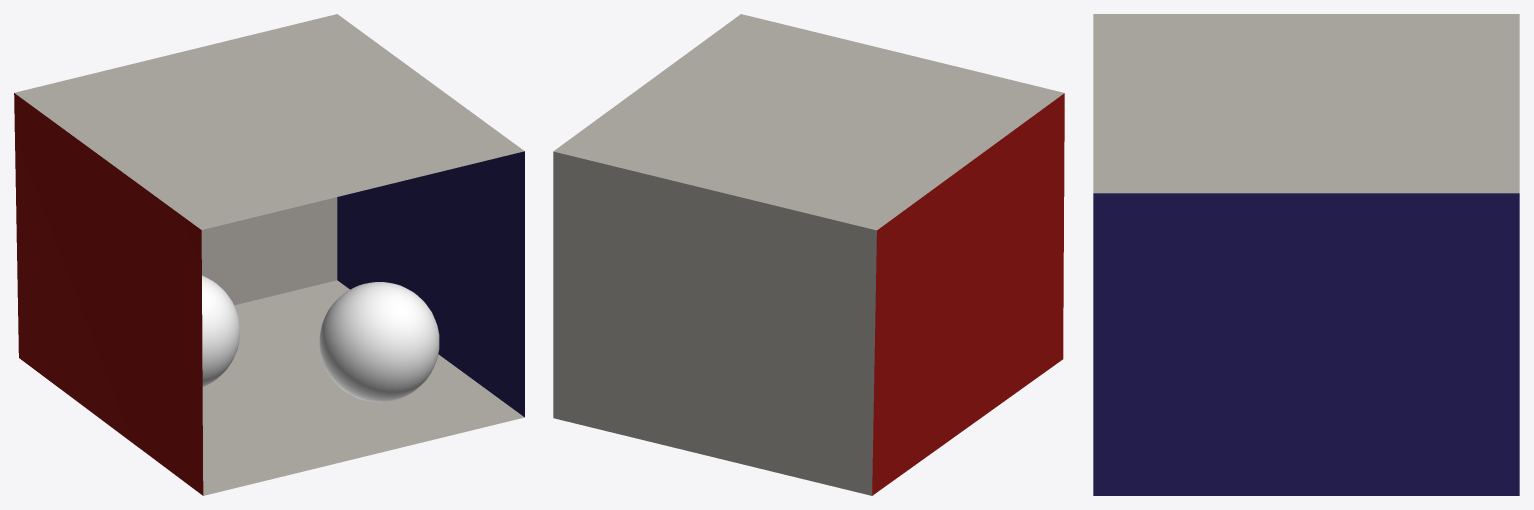
The picture shows the model from 3 angles, left to right: view 1: azimuth 30°, elevation 25°; view 2: azimuth 150°, elevation 25°; view 3: azimuth 270°, elevation 25°; orthographic projection. The views are drawn at different scales.
Visible parts, largest first — view 1: CornellBox-Sphere; view 2: CornellBox-Sphere; view 3: CornellBox-Sphere.
Part boxes in pixels (x1,y1,x2,y2): CornellBox-Sphere: [14, 14, 524, 495]; CornellBox-Sphere: [553, 14, 1064, 495]; CornellBox-Sphere: [1093, 14, 1519, 495].
Bounding box in the file's own units: 2.02 × 1.59 × 2.03.
